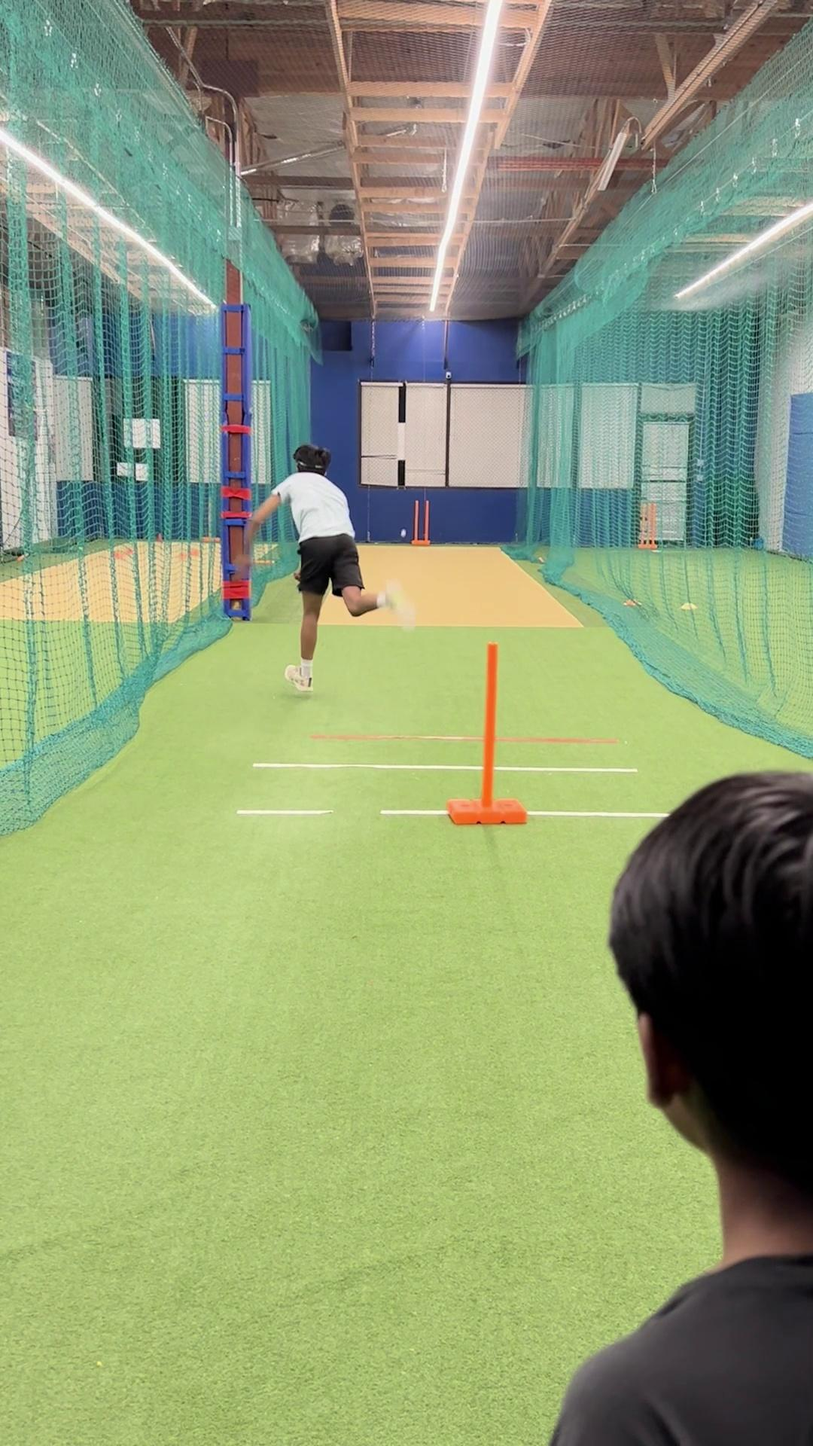ball: (397, 526, 409, 541)
